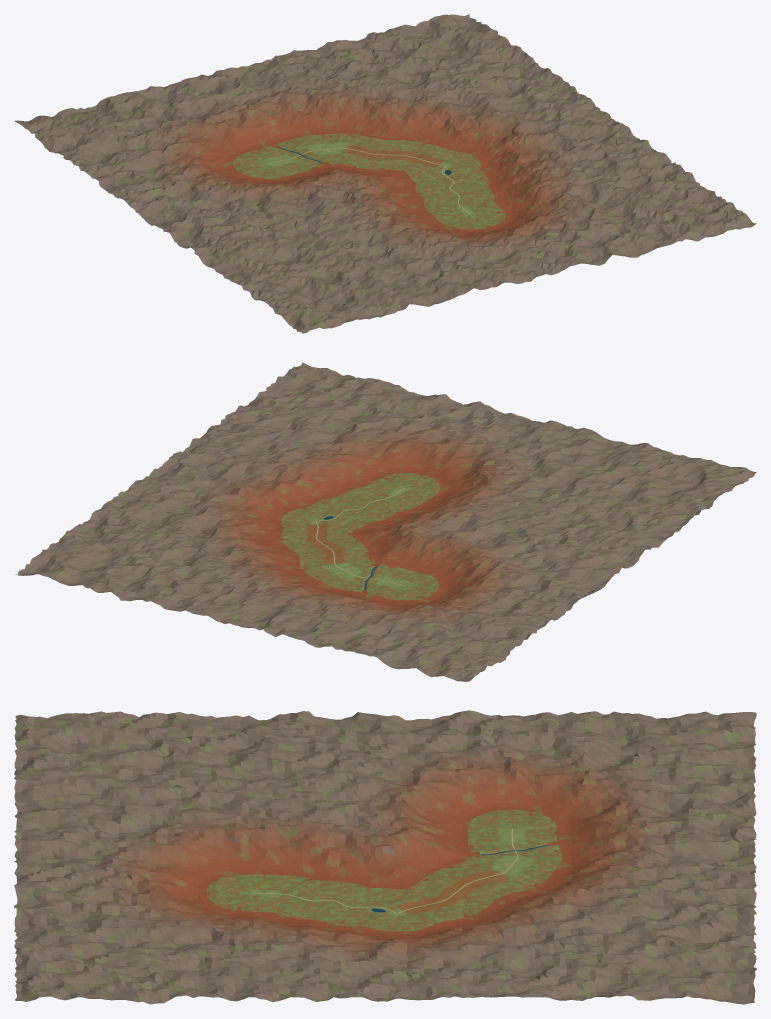
Rendered from vermont.glb.
3 renders of one model, top to bottom at view 1: azimuth 30°, elevation 25°; view 2: azimuth 150°, elevation 25°; view 3: azimuth 270°, elevation 25°, orthographic. The views are drawn at different scales.
Visible parts, largest first — view 1: SM_Vermont_Backdrop_0; view 2: SM_Vermont_Backdrop_0; view 3: SM_Vermont_Backdrop_0, SM_Vermont_Tile_6_7, SM_Vermont_Tile_5_8, SM_Vermont_Tile_6_3, SM_Vermont_Tile_6_4, SM_Vermont_Tile_7_3, SM_Vermont_Tile_6_2, SM_Vermont_Tile_5_7, SM_Vermont_Tile_6_6, SM_Vermont_Tile_7_4, SM_Vermont_Tile_7_5, SM_Vermont_Tile_2_9 (+14 smaller).
Part boxes in pixels (x1,y1,x2,y2): SM_Vermont_Backdrop_0: (14, 14, 756, 333); SM_Vermont_Backdrop_0: (15, 362, 756, 681); SM_Vermont_Backdrop_0: (14, 710, 756, 1004); SM_Vermont_Tile_6_7: (442, 886, 477, 902); SM_Vermont_Tile_5_8: (477, 871, 512, 887); SM_Vermont_Tile_6_3: (303, 888, 338, 903); SM_Vermont_Tile_6_4: (337, 888, 373, 903); SM_Vermont_Tile_7_3: (303, 903, 338, 918); SM_Vermont_Tile_6_2: (268, 888, 303, 903); SM_Vermont_Tile_5_7: (442, 871, 477, 886); SM_Vermont_Tile_6_6: (407, 886, 443, 902); SM_Vermont_Tile_7_4: (338, 903, 373, 918); SM_Vermont_Tile_7_5: (372, 902, 408, 917); SM_Vermont_Tile_2_9: (512, 828, 547, 843).
Size of the model in its own units: 4977 by 177 by 5471.
